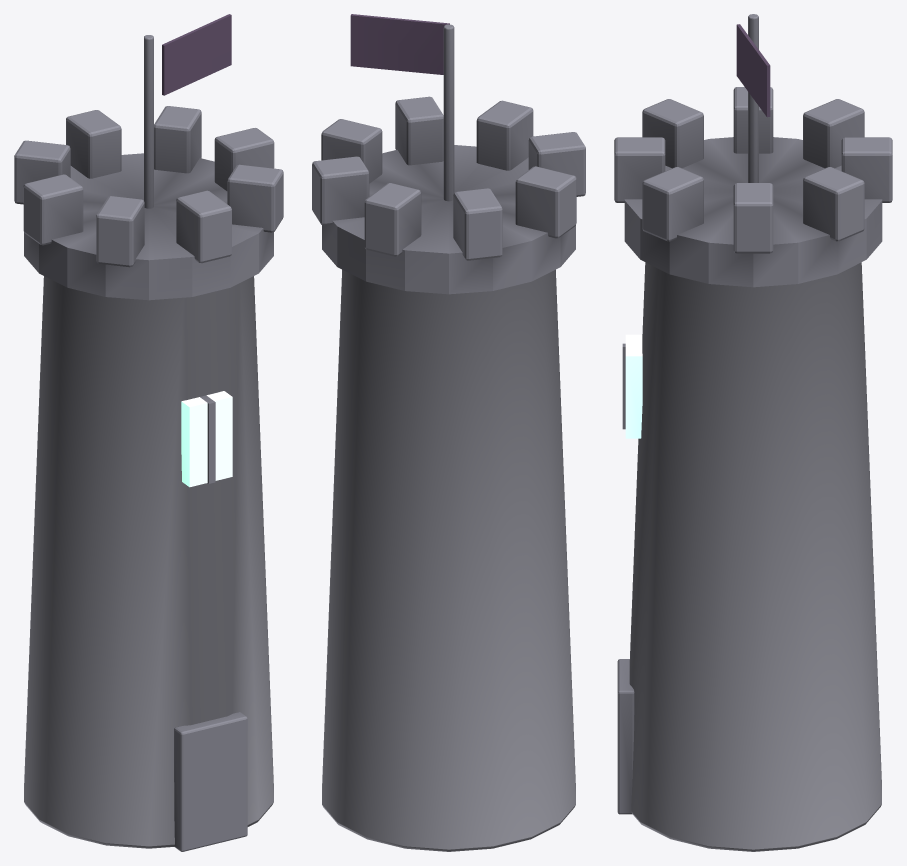
File: witchTower.glb
The picture shows the model from 3 angles, left to right: view 1: azimuth 30°, elevation 25°; view 2: azimuth 150°, elevation 25°; view 3: azimuth 270°, elevation 25°; orthographic projection. The views are drawn at different scales.
Parts seen in each view (by area): view 1: WitchTower; view 2: WitchTower; view 3: WitchTower.
Boxes of the visible parts, box(x1,y1,x2,y2) form: WitchTower: box(14, 14, 283, 851); WitchTower: box(312, 14, 585, 851); WitchTower: box(614, 14, 892, 851).
Size of the model in its own units: 2.45 by 7.6 by 2.45.
